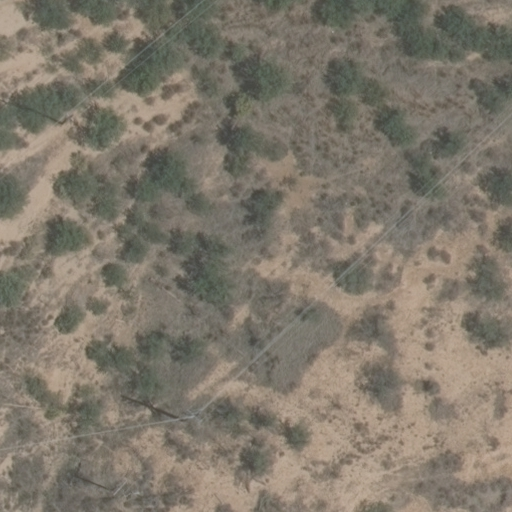DT: (180, 409, 200, 426), (60, 112, 78, 127)
